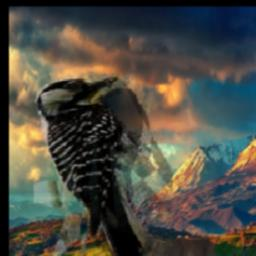Woodpecker: (34, 75, 173, 256)
